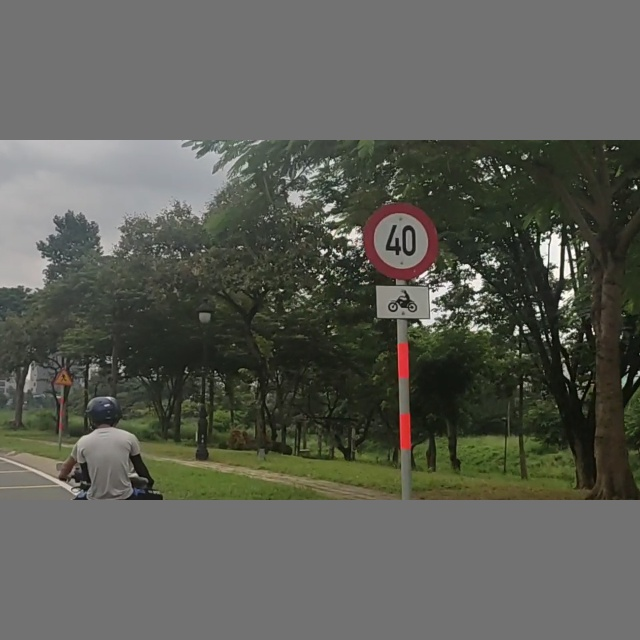P.127*40: (363, 203, 439, 279)
W.224: (53, 367, 73, 387)
